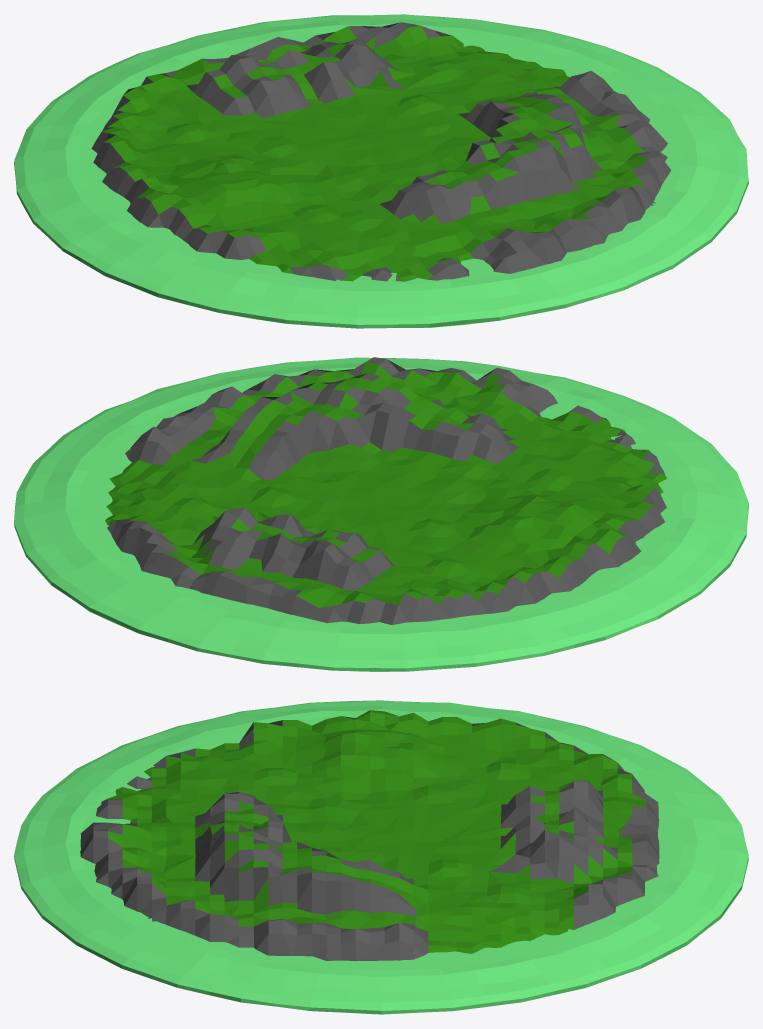
The model's file is island_02_8.fbx.
3 renders of one model, top to bottom at view 1: azimuth 30°, elevation 25°; view 2: azimuth 150°, elevation 25°; view 3: azimuth 270°, elevation 25°, orthographic.
Parts seen in each view (by area): view 1: land, Sand; view 2: land, Sand; view 3: land, Sand.
Part boxes in pixels (x1,y1,x2,y2): land: (91, 22, 671, 281); Sand: (14, 14, 748, 328); land: (105, 357, 667, 624); Sand: (14, 357, 748, 671); land: (80, 710, 659, 961); Sand: (14, 700, 748, 1014).
Bounding box in the file's own units: 18462 × 1795 × 18471.
